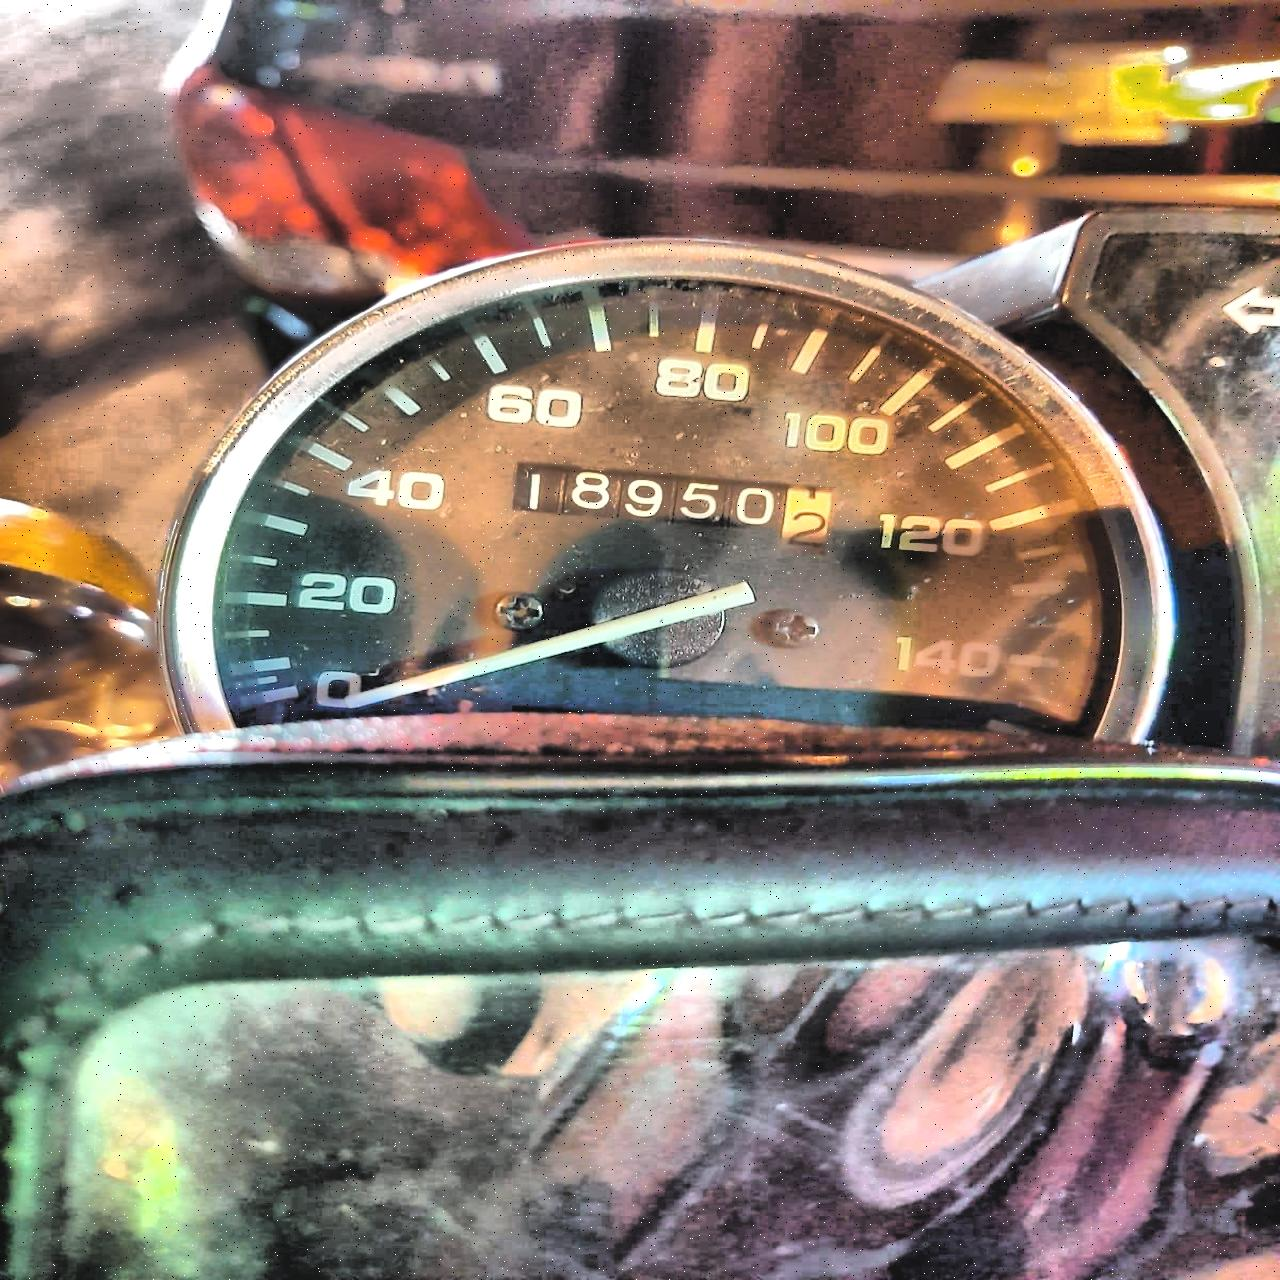0: (733, 485, 775, 525)
1: (525, 471, 547, 512)
2: (782, 505, 830, 547)
5: (679, 481, 720, 520)
8: (572, 470, 612, 511)
9: (625, 477, 665, 516)
odometer: (505, 458, 844, 553)
